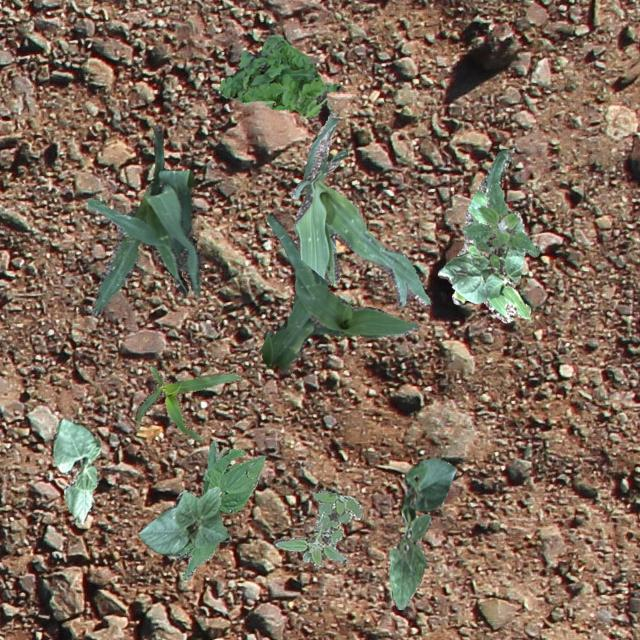crop: (290, 112, 430, 306), (258, 212, 418, 368), (85, 124, 204, 316), (450, 148, 530, 322), (170, 440, 264, 580), (388, 456, 456, 608), (134, 363, 240, 442), (436, 216, 524, 302), (138, 486, 230, 554), (50, 418, 100, 524)
weed: (218, 34, 340, 118), (272, 489, 362, 566), (462, 182, 538, 268)
